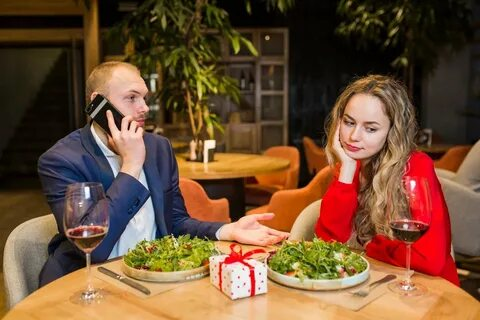awake: (313, 71, 461, 285), (36, 60, 180, 258)
